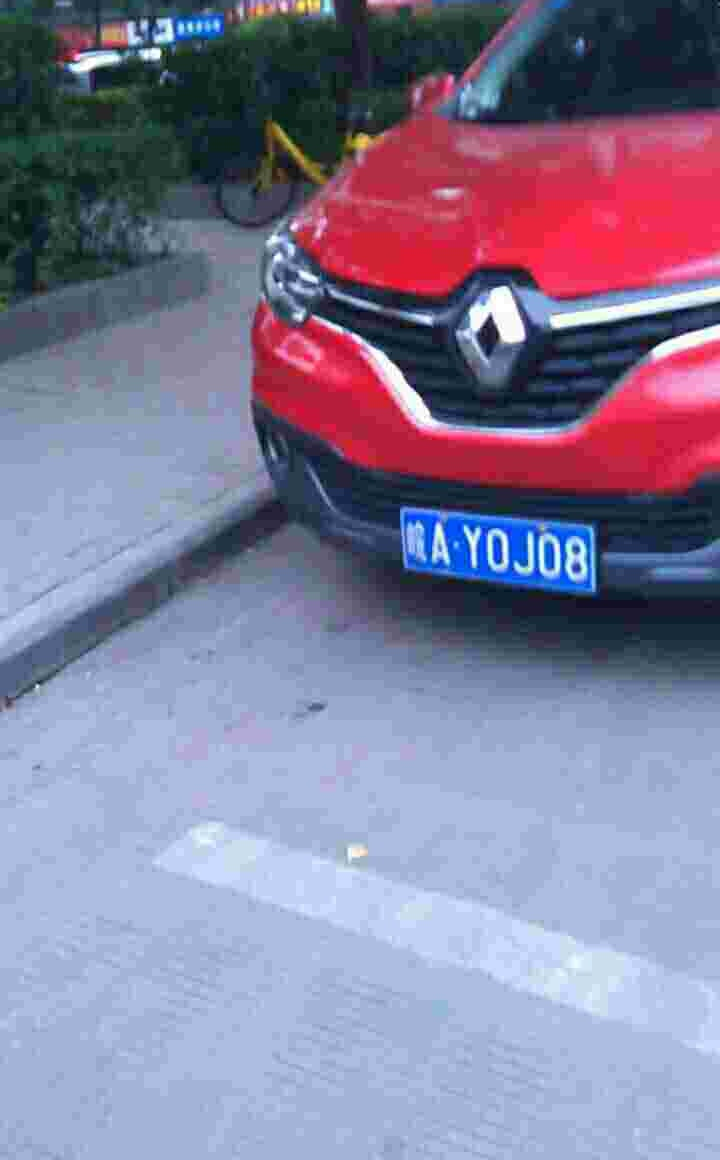license_plate: (396, 517, 588, 589)
